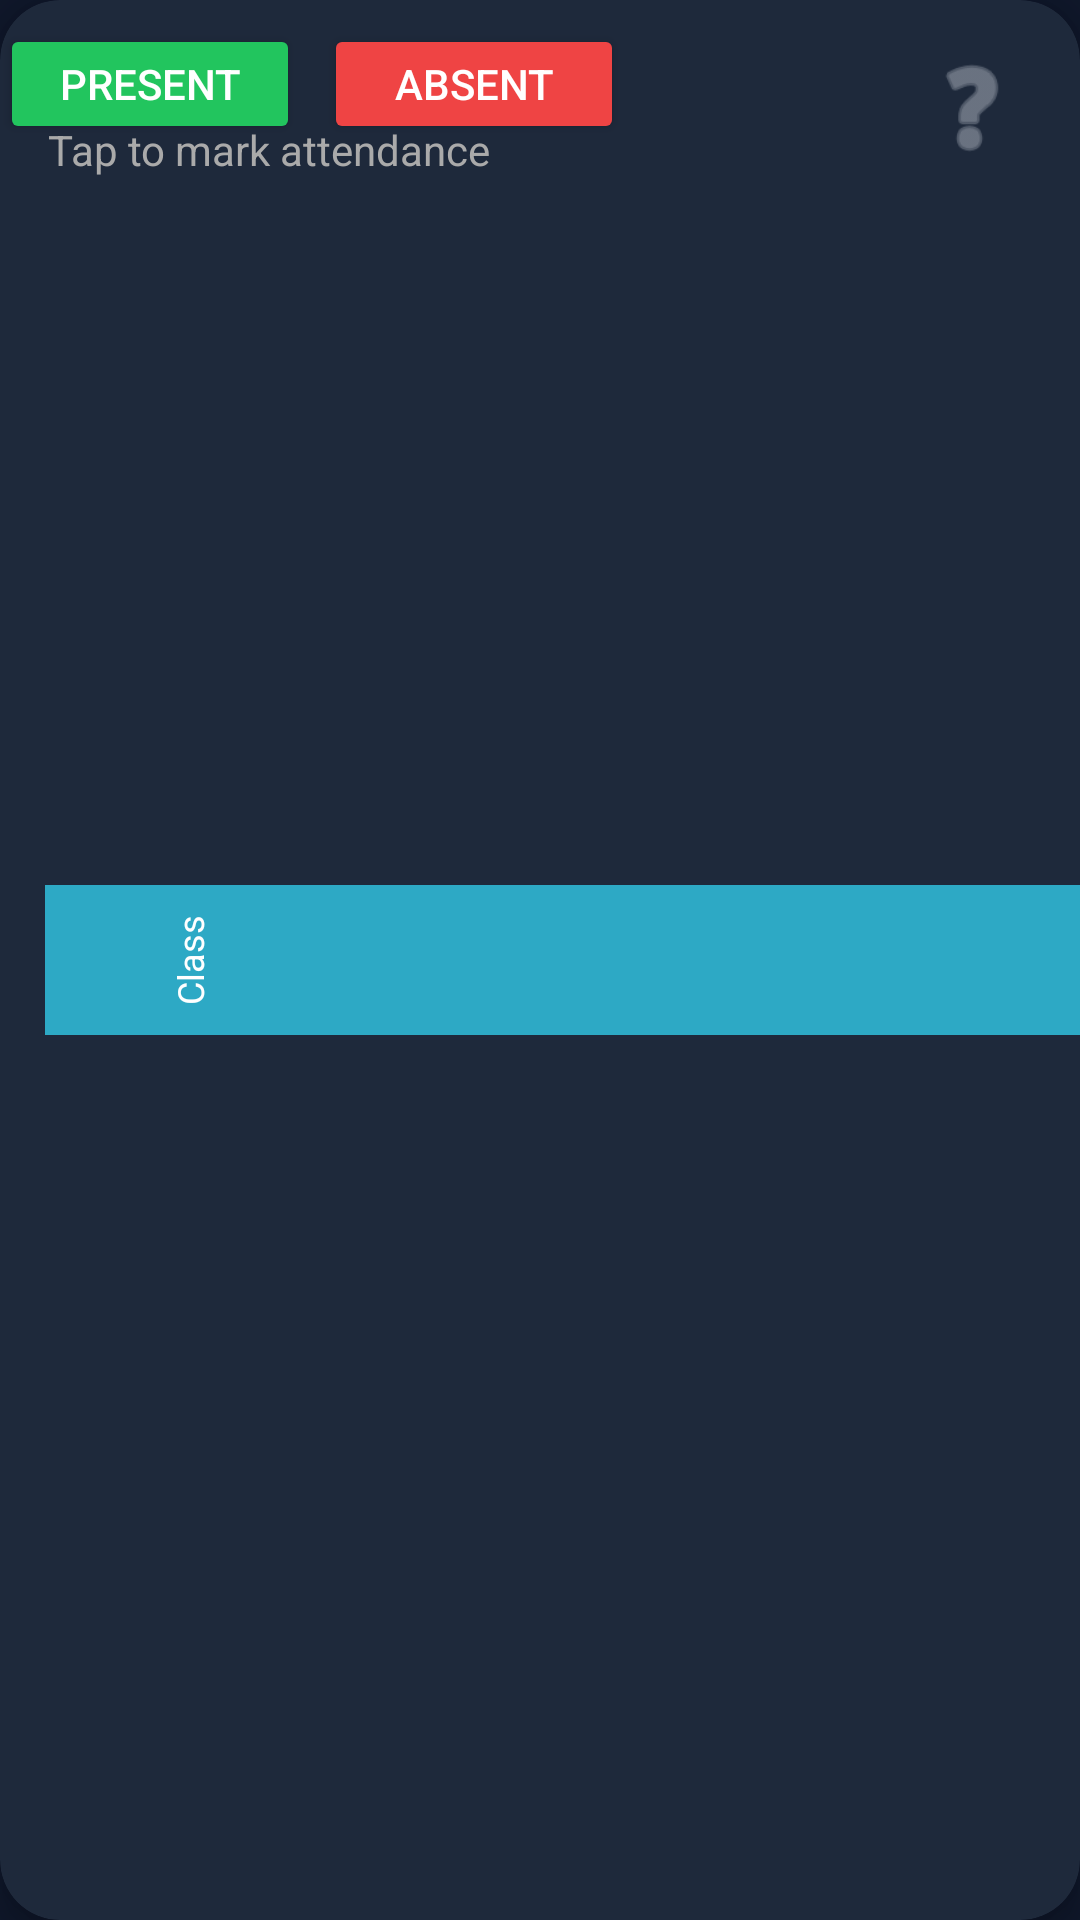

Screen size 1080px×1920px. Icon name, then its box in pixels as {"left": x1, "top": y1, "right": x2, "bottom": y2}:
help: {"left": 946, "top": 65, "right": 998, "bottom": 151}
